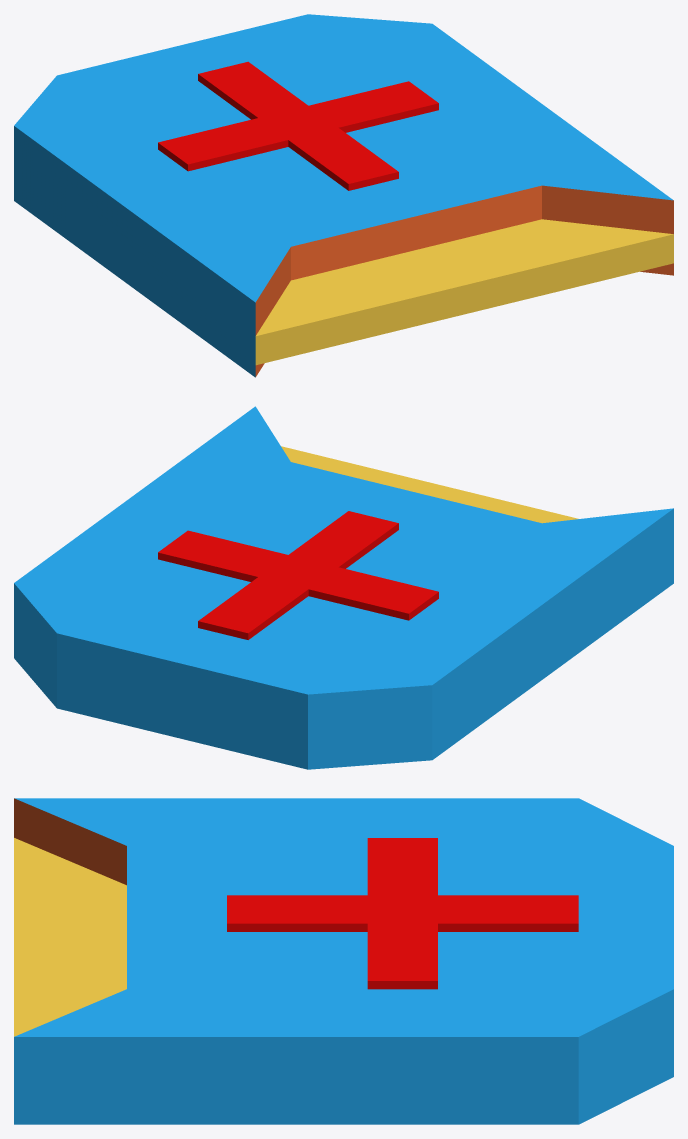
The model's file is Upgrade_Health_02.fbx.
The picture shows the model from 3 angles, top to bottom: view 1: azimuth 30°, elevation 25°; view 2: azimuth 150°, elevation 25°; view 3: azimuth 270°, elevation 25°; orthographic projection. The views are drawn at different scales.
Visible parts, largest first — view 1: Cube.001; view 2: Cube.001; view 3: Cube.001.
Part boxes in pixels (x1=…): Cube.001: x1=14, y1=14, x2=673, y2=377; Cube.001: x1=14, y1=406, x2=673, y2=769; Cube.001: x1=14, y1=798, x2=673, y2=1124.
Size of the model in its own units: 86.17 by 17.51 by 101.
